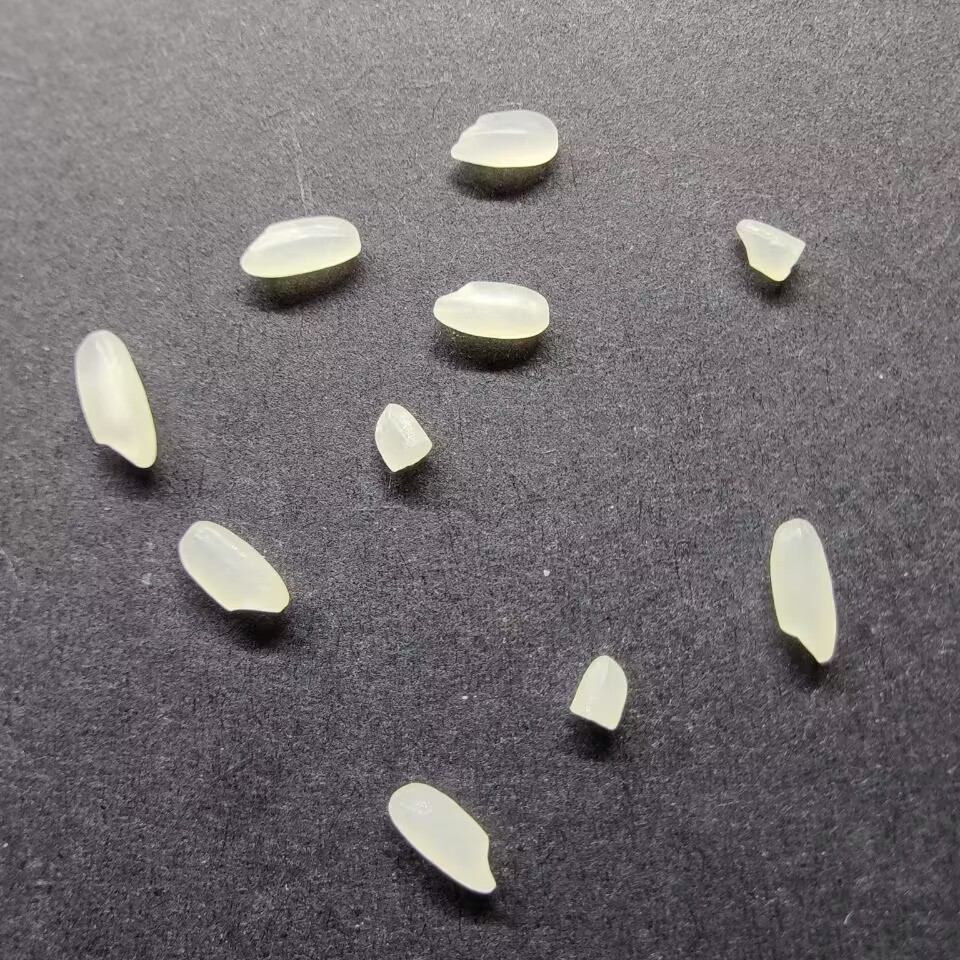broken: (566, 651, 629, 734), (734, 217, 809, 283), (368, 402, 435, 473)
rice: (384, 781, 498, 897), (71, 328, 159, 469), (178, 519, 291, 615), (768, 516, 840, 665), (236, 214, 361, 281), (429, 281, 552, 340), (447, 109, 561, 169)
